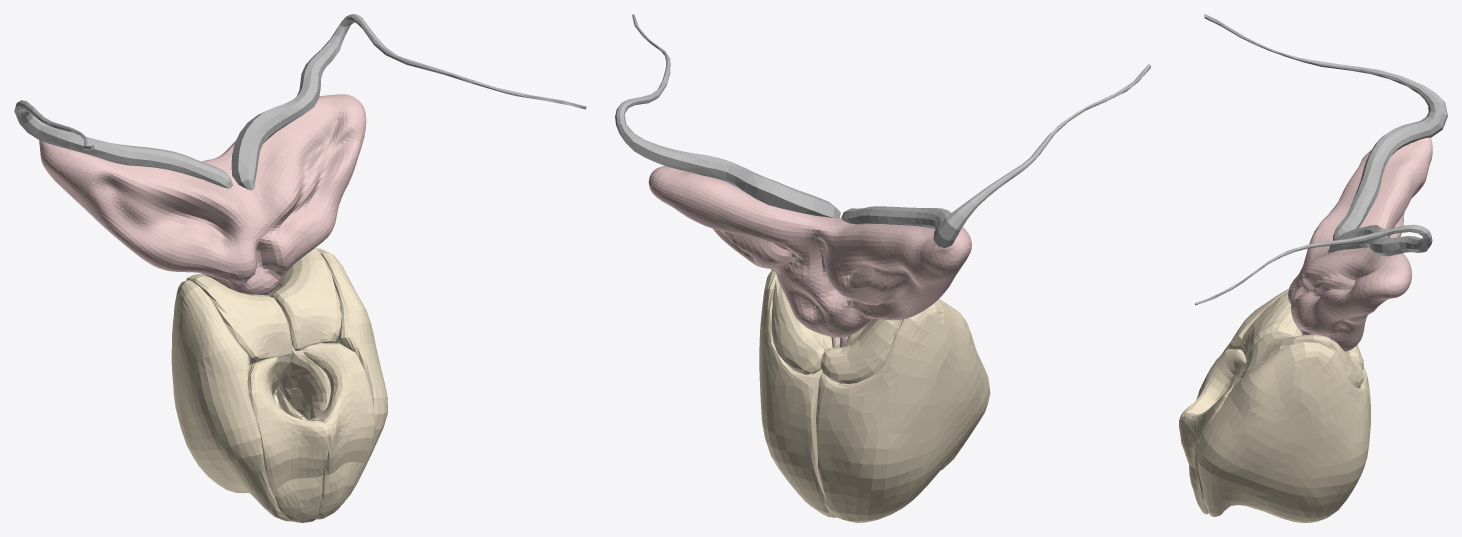
Rendered from VH_M_Prostate_0.6.glb.
The picture shows the model from 3 angles, left to right: view 1: azimuth 30°, elevation 25°; view 2: azimuth 150°, elevation 25°; view 3: azimuth 270°, elevation 25°; orthographic projection. The views are drawn at different scales.
Parts seen in each view (by area): view 1: VH_M_seminal_vesicle, VH_M_peripheral_zone_of_prostate_R, VH_M_anterior_fibromuscular_stroma_R, VH_M_anterior_fibromuscular_stroma_L, VH_M_vas_deferens_R, VH_M_vas_deferens_L, VH_M_central_zone_of_prostate_L, VH_M_peripheral_zone_of_prostate_L, VH_M_central_zone_of_prostate_R, VH_M_base_of_prostate, VH_M_transition_zone__of_prostate_L; view 2: VH_M_peripheral_zone_of_prostate_R, VH_M_seminal_vesicle, VH_M_peripheral_zone_of_prostate_L, VH_M_vas_deferens_R, VH_M_vas_deferens_L, VH_M_central_zone_of_prostate_R, VH_M_central_zone_of_prostate_L; view 3: VH_M_peripheral_zone_of_prostate_L, VH_M_seminal_vesicle, VH_M_vas_deferens_L, VH_M_vas_deferens_R, VH_M_central_zone_of_prostate_L, VH_M_central_zone_of_prostate_R, VH_M_anterior_fibromuscular_stroma_L, VH_M_base_of_prostate, VH_M_anterior_fibromuscular_stroma_R, VH_M_peripheral_zone_of_prostate_R.
Part boxes in pixels (left/top/right/bottom): VH_M_seminal_vesicle: left=39, top=94, right=366, bottom=295; VH_M_peripheral_zone_of_prostate_R: left=171, top=280, right=293, bottom=521; VH_M_anterior_fibromuscular_stroma_R: left=248, top=357, right=329, bottom=522; VH_M_anterior_fibromuscular_stroma_L: left=303, top=343, right=375, bottom=519; VH_M_vas_deferens_R: left=231, top=14, right=586, bottom=190; VH_M_vas_deferens_L: left=14, top=100, right=232, bottom=188; VH_M_central_zone_of_prostate_L: left=267, top=248, right=341, bottom=350; VH_M_peripheral_zone_of_prostate_L: left=272, top=248, right=387, bottom=498; VH_M_central_zone_of_prostate_R: left=186, top=274, right=292, bottom=364; VH_M_base_of_prostate: left=235, top=317, right=368, bottom=454; VH_M_transition_zone__of_prostate_L: left=277, top=344, right=330, bottom=420; VH_M_peripheral_zone_of_prostate_R: left=816, top=299, right=990, bottom=522; VH_M_seminal_vesicle: left=648, top=165, right=971, bottom=337; VH_M_peripheral_zone_of_prostate_L: left=759, top=270, right=836, bottom=517; VH_M_vas_deferens_R: left=615, top=14, right=840, bottom=217; VH_M_vas_deferens_L: left=841, top=64, right=1150, bottom=248; VH_M_central_zone_of_prostate_R: left=820, top=318, right=901, bottom=383; VH_M_central_zone_of_prostate_L: left=771, top=278, right=848, bottom=374; VH_M_peripheral_zone_of_prostate_L: left=1196, top=342, right=1370, bottom=522; VH_M_seminal_vesicle: left=1288, top=137, right=1432, bottom=351; VH_M_vas_deferens_L: left=1204, top=14, right=1447, bottom=240; VH_M_vas_deferens_R: left=1195, top=224, right=1432, bottom=305; VH_M_central_zone_of_prostate_L: left=1241, top=331, right=1364, bottom=388; VH_M_central_zone_of_prostate_R: left=1240, top=292, right=1363, bottom=369; VH_M_anterior_fibromuscular_stroma_L: left=1180, top=379, right=1240, bottom=514; VH_M_base_of_prostate: left=1181, top=325, right=1252, bottom=447; VH_M_anterior_fibromuscular_stroma_R: left=1179, top=349, right=1246, bottom=443; VH_M_peripheral_zone_of_prostate_R: left=1198, top=288, right=1370, bottom=409.
Size of the model in its own units: 0.083 by 0.0706 by 0.0428.
